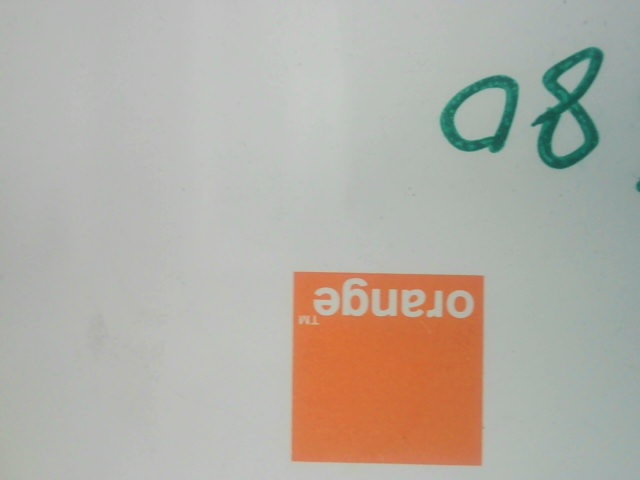AR_Orange: (279, 259, 492, 470)
